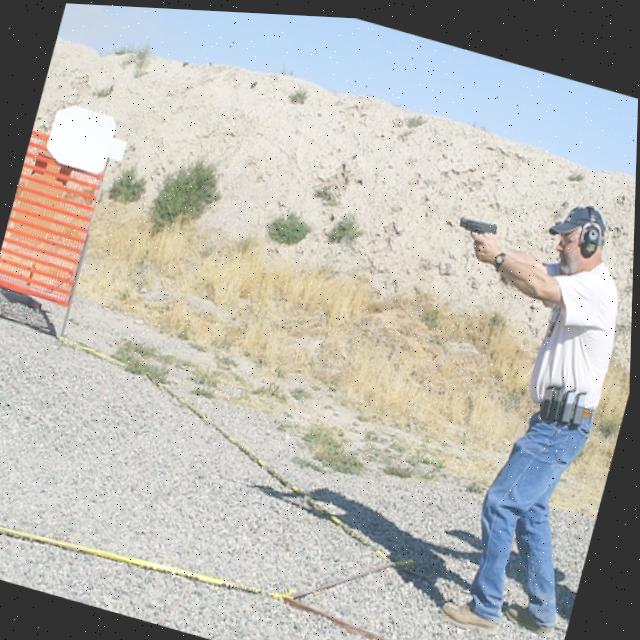pistol: (456, 208, 501, 241)
